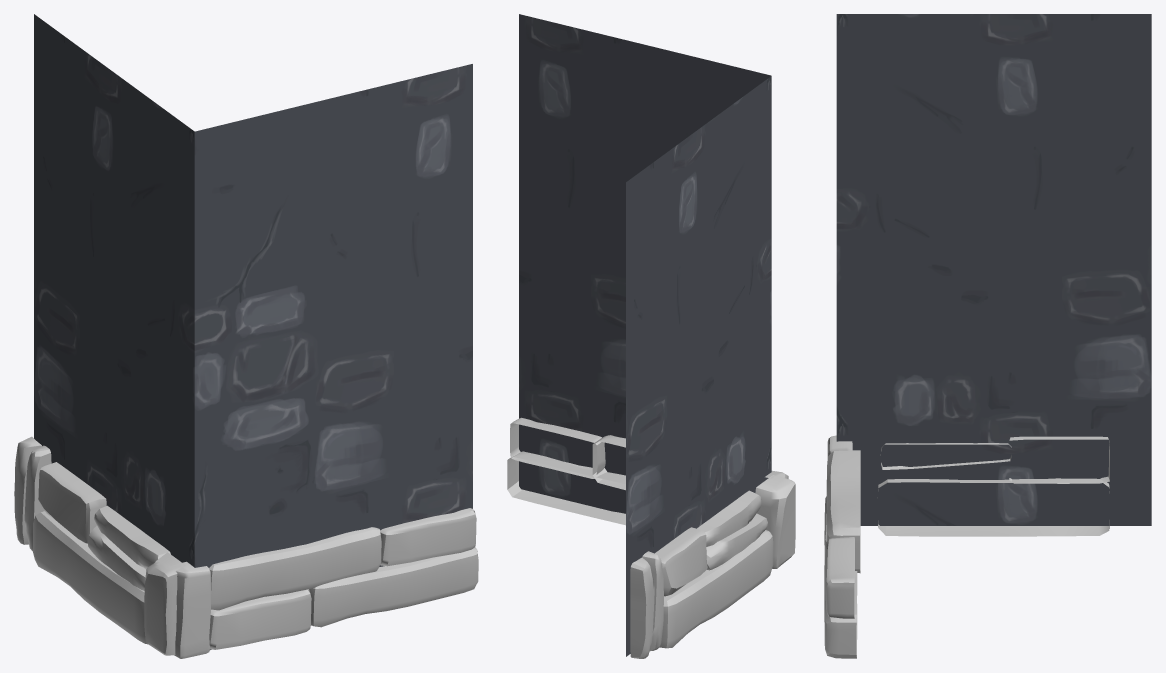
The model's file is Wall corne 2.fbx.
The picture shows the model from 3 angles, left to right: view 1: azimuth 30°, elevation 25°; view 2: azimuth 150°, elevation 25°; view 3: azimuth 270°, elevation 25°; orthographic projection. The views are drawn at different scales.
Visible parts, largest first — view 1: Wall_corner1; view 2: Wall_corner1; view 3: Wall_corner1.
Boxes of the visible parts, bbox=[...] form: Wall_corner1: bbox=[14, 14, 478, 658]; Wall_corner1: bbox=[507, 14, 795, 658]; Wall_corner1: bbox=[824, 14, 1151, 658].
Bounding box in the file's own units: 7.87 × 12.72 × 7.28.
